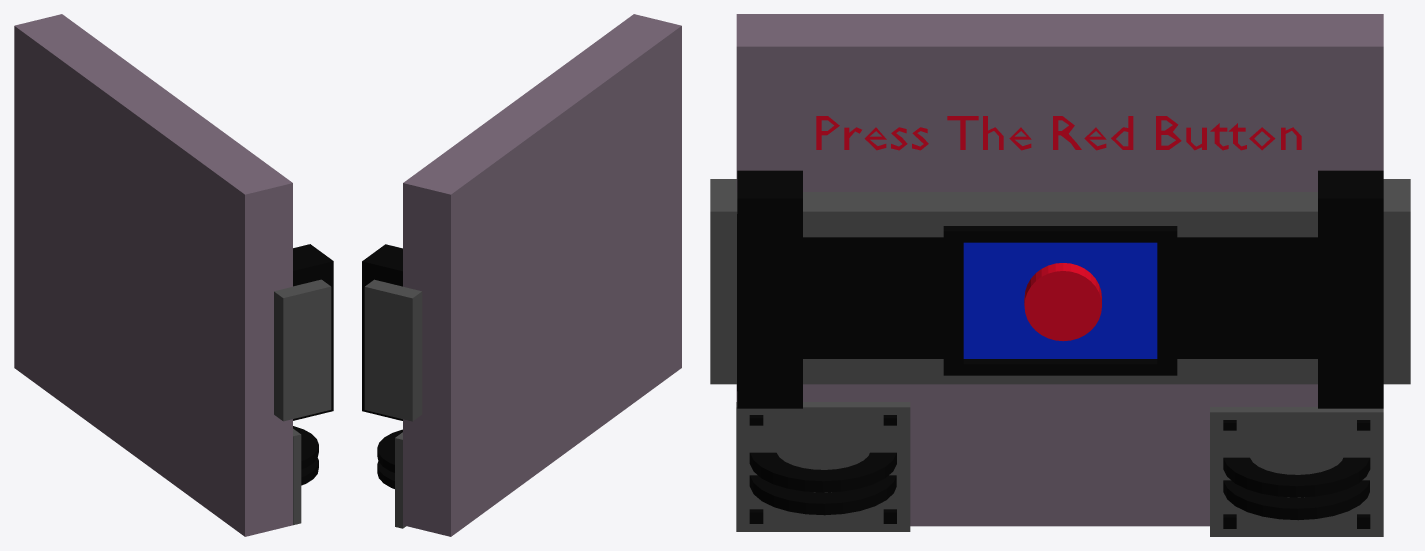
The model's file is ActivateButton.fbx.
The picture shows the model from 3 angles, left to right: view 1: azimuth 30°, elevation 25°; view 2: azimuth 150°, elevation 25°; view 3: azimuth 270°, elevation 25°; orthographic projection. The views are drawn at different scales.
Visible parts, largest first — view 1: Cube.002, Cube.003, Cube, Cube.005, Cube.004; view 2: Cube.002, Cube.003, Cube.001, Cube.007; view 3: Cube.002, Cube.003, Cube.001, Cube, Cube.004, Cube.006, Cylinder, Text, Cube.005, Cube.007, Cube.008, Cube.009.
Boxes of the visible parts, box(x1,y1,x2,y2) form: Cube.002: box(14, 14, 292, 536); Cube.003: box(274, 279, 331, 421); Cube: box(293, 426, 318, 525); Cube.005: box(293, 244, 333, 286); Cube.004: box(323, 278, 333, 398); Cube.002: box(403, 14, 681, 536); Cube.003: box(364, 279, 422, 421); Cube.001: box(377, 429, 406, 528); Cube.007: box(362, 244, 402, 286); Cube.002: box(736, 14, 1383, 526); Cube.003: box(710, 179, 1410, 384); Cube.001: box(1210, 407, 1383, 536); Cube: box(736, 402, 910, 531); Cube.004: box(737, 214, 802, 390); Cube.006: box(1318, 222, 1383, 384); Cylinder: box(1024, 263, 1101, 341); Text: box(816, 116, 1301, 150); Cube.005: box(737, 170, 802, 222); Cube.007: box(1318, 170, 1383, 222); Cube.008: box(737, 385, 802, 408); Cube.009: box(1318, 385, 1383, 408).
Bounding box in the file's own units: 408 × 1379 × 1806.
